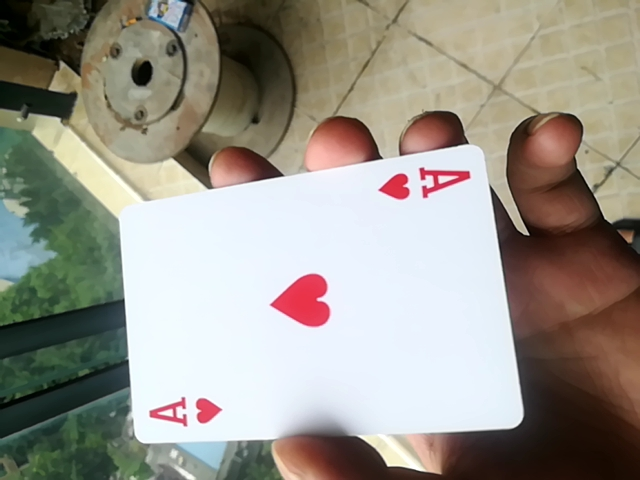hx a: (114, 140, 521, 450)
